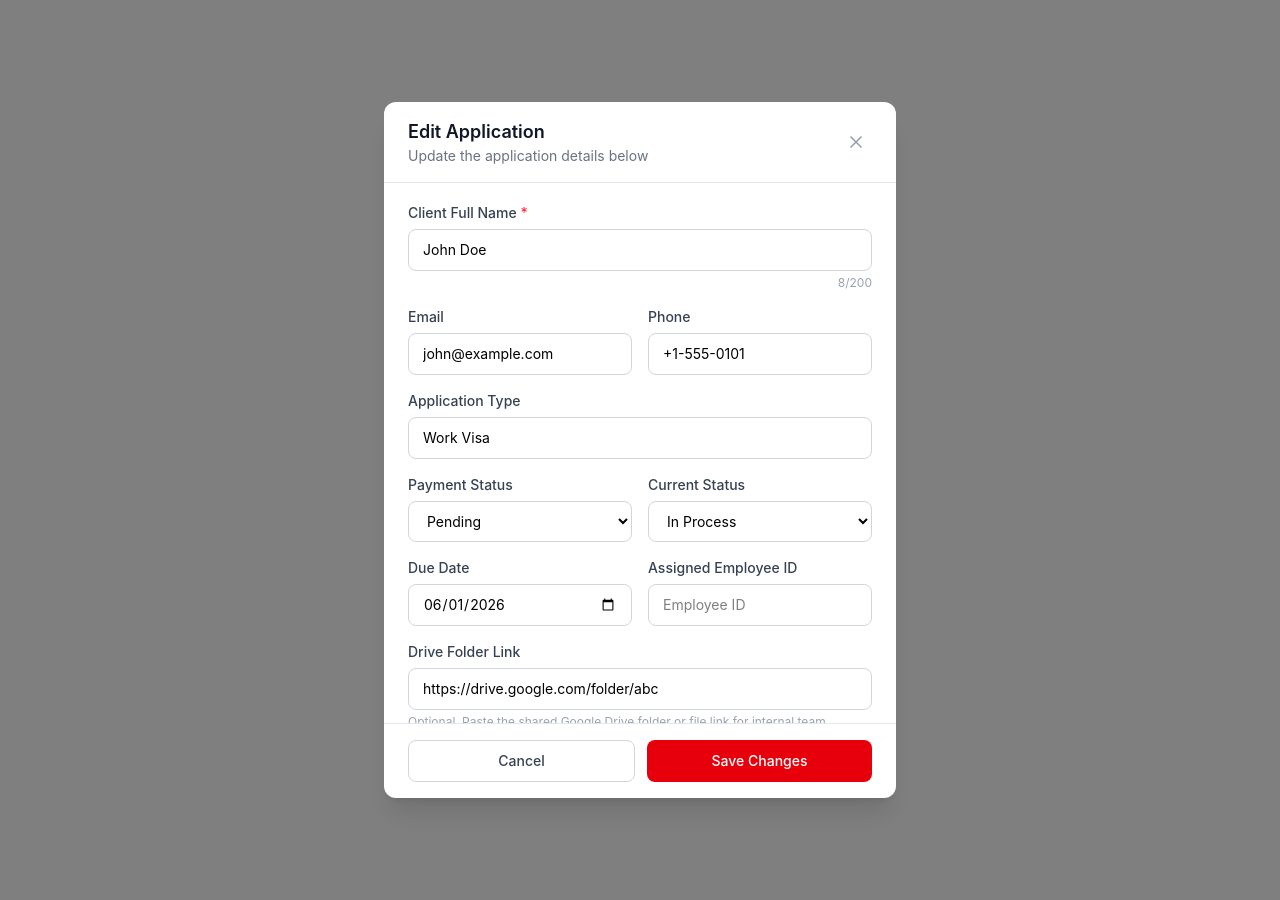
Test: EditApplicationModal Component › Validation › should show error for invalid email
Replace the text in the field labelled "Email" with "bad-email" at {"x": 520, "y": 354}, box [408, 333, 632, 375]
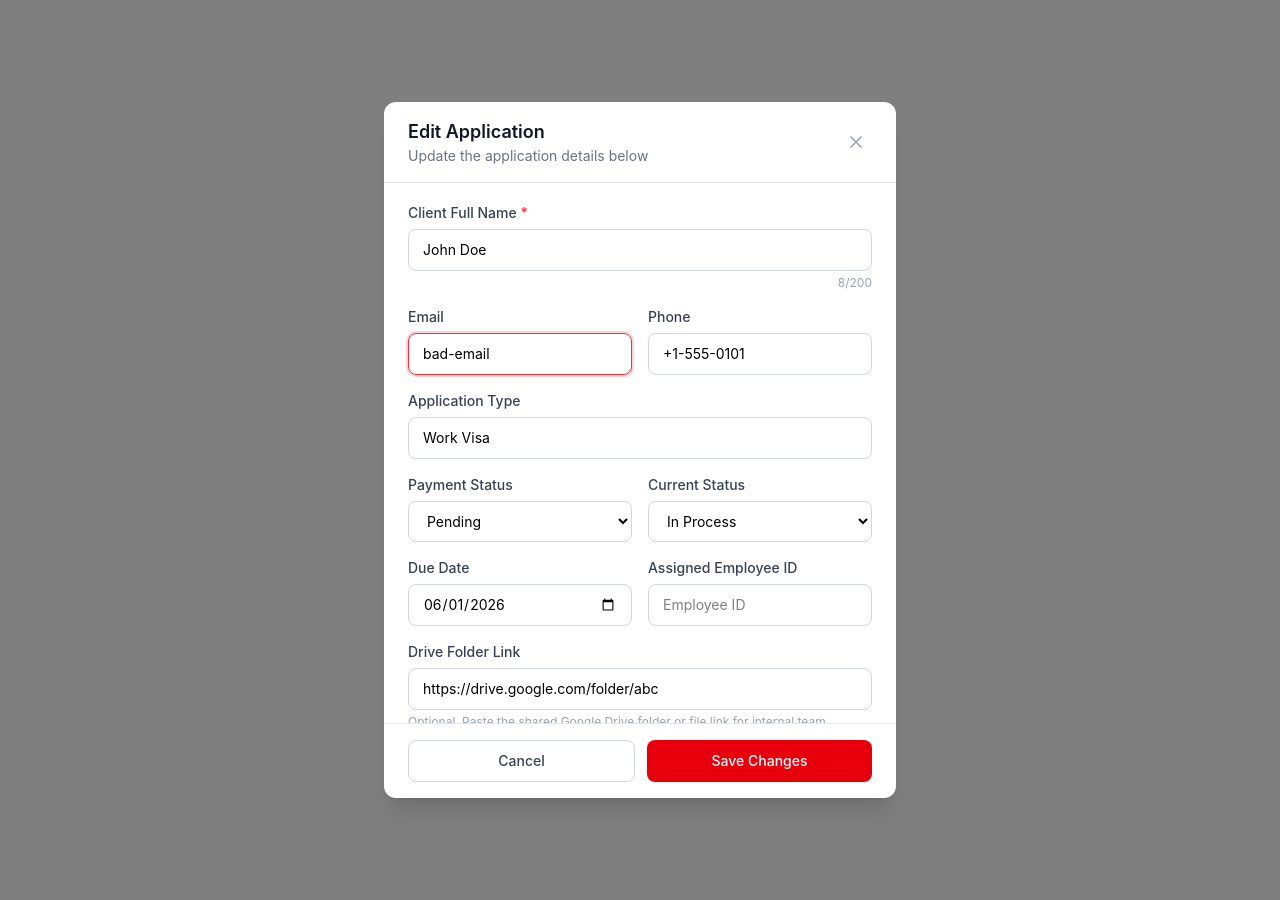
Click the button "Save Changes" at {"x": 760, "y": 761}, box [647, 740, 872, 782]
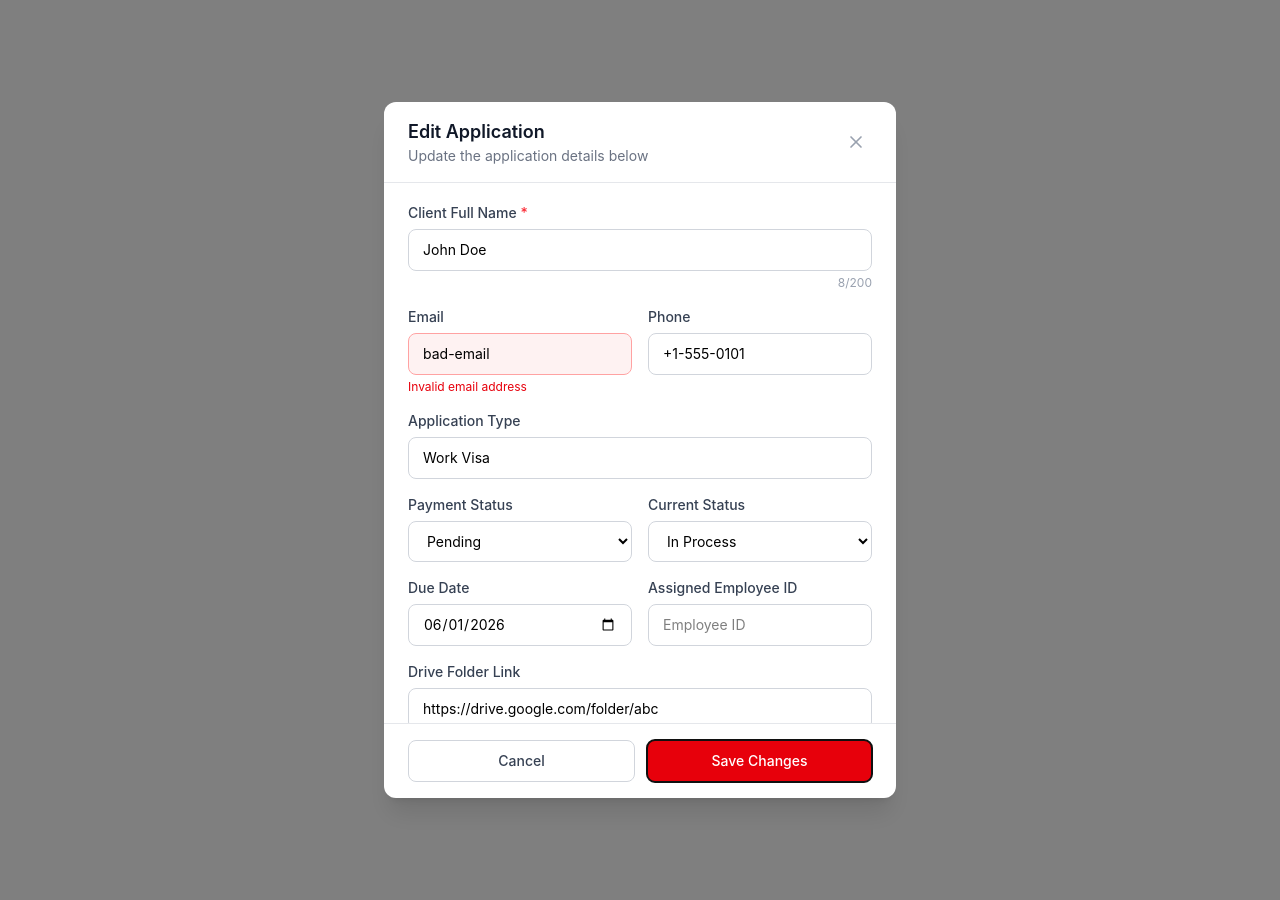
Now the text "Invalid email address" is shown, box [408, 379, 527, 394]
